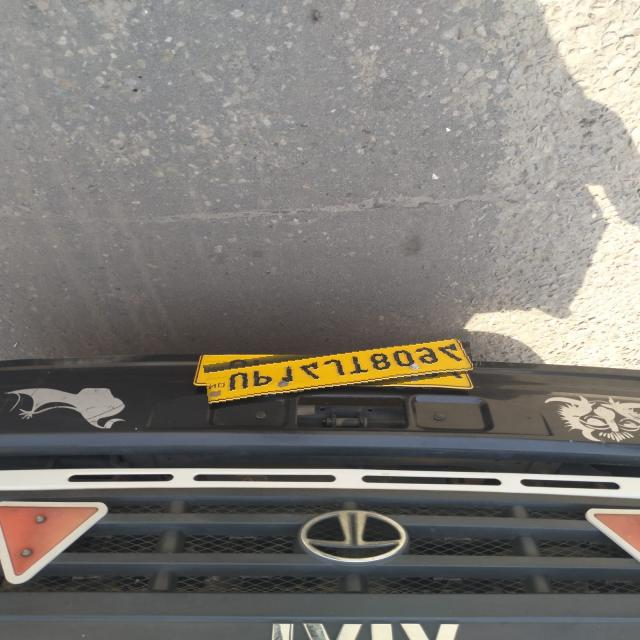License-plate: (204, 338, 473, 401)
